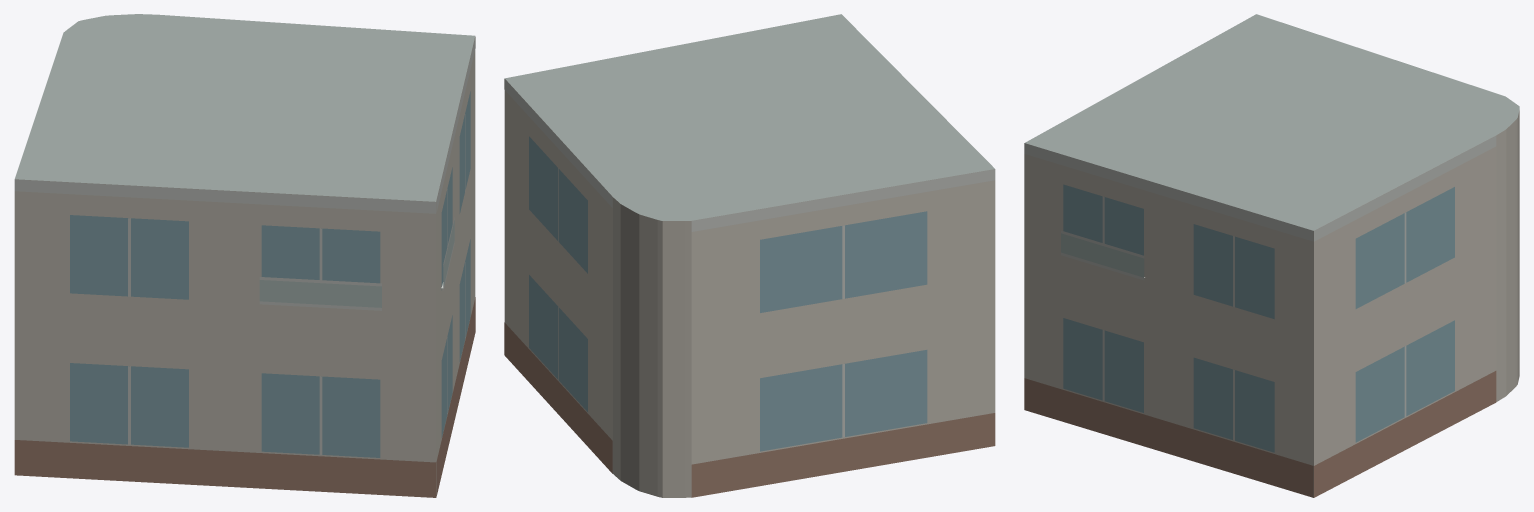
Rendered from survey-upis-32614454.glb.
The picture shows the model from 3 angles, left to right: view 1: azimuth 30°, elevation 25°; view 2: azimuth 150°, elevation 25°; view 3: azimuth 270°, elevation 25°; orthographic projection. The views are drawn at different scales.
Visible parts, largest first — view 1: survey-upis-32614454.tmp; view 2: survey-upis-32614454.tmp; view 3: survey-upis-32614454.tmp.
Part boxes in pixels (x1=…): survey-upis-32614454.tmp: x1=14, y1=14, x2=475, y2=497; survey-upis-32614454.tmp: x1=504, y1=14, x2=995, y2=497; survey-upis-32614454.tmp: x1=1024, y1=14, x2=1519, y2=497.
Bounding box in the file's own units: 10.29 × 5.9 × 9.92.
